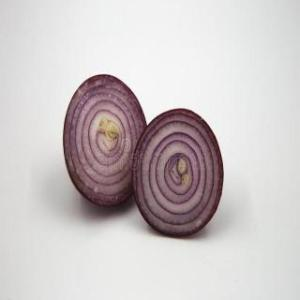onion: (61, 73, 148, 209), (132, 107, 224, 235)
